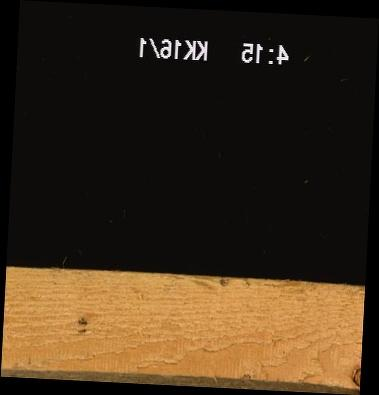dry_knot: (351, 364, 359, 388)
